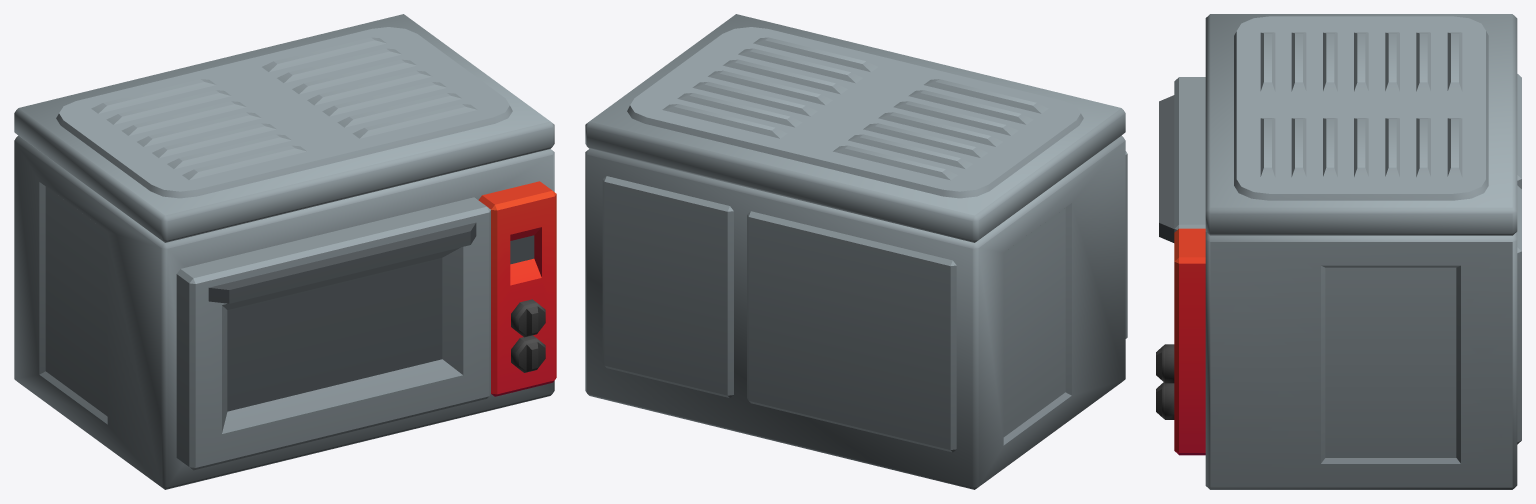
The model's file is pizza_oven.glb.
3 renders of one model, left to right at view 1: azimuth 30°, elevation 25°; view 2: azimuth 150°, elevation 25°; view 3: azimuth 270°, elevation 25°, orthographic. The views are drawn at different scales.
Parts seen in each view (by area): view 1: pizza_oven, pizza_oven_door; view 2: pizza_oven; view 3: pizza_oven, pizza_oven_door.
Part boxes in pixels (x1=…): pizza_oven: x1=14, y1=14, x2=556, y2=489; pizza_oven_door: x1=176, y1=197, x2=490, y2=470; pizza_oven: x1=585, y1=14, x2=1125, y2=489; pizza_oven: x1=1156, y1=14, x2=1521, y2=489; pizza_oven_door: x1=1159, y1=77, x2=1205, y2=242.
Size of the model in its own units: 3 by 2.07 by 2.35.
1 material, 1 textured.
